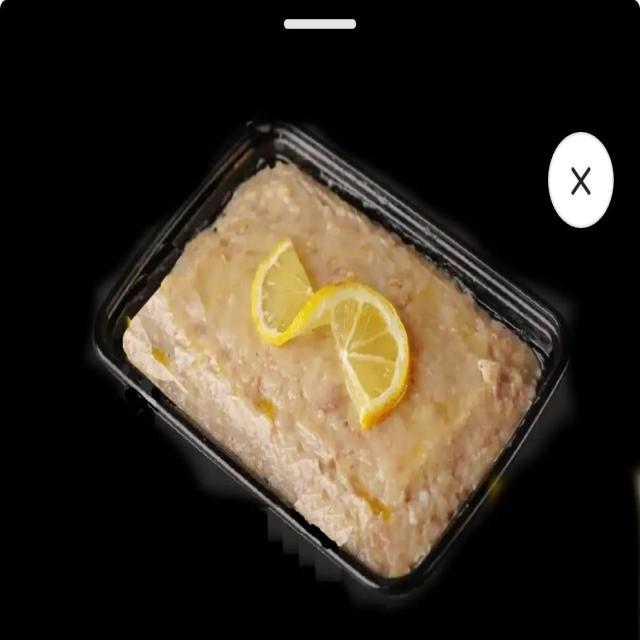Harees: (118, 148, 544, 582)
